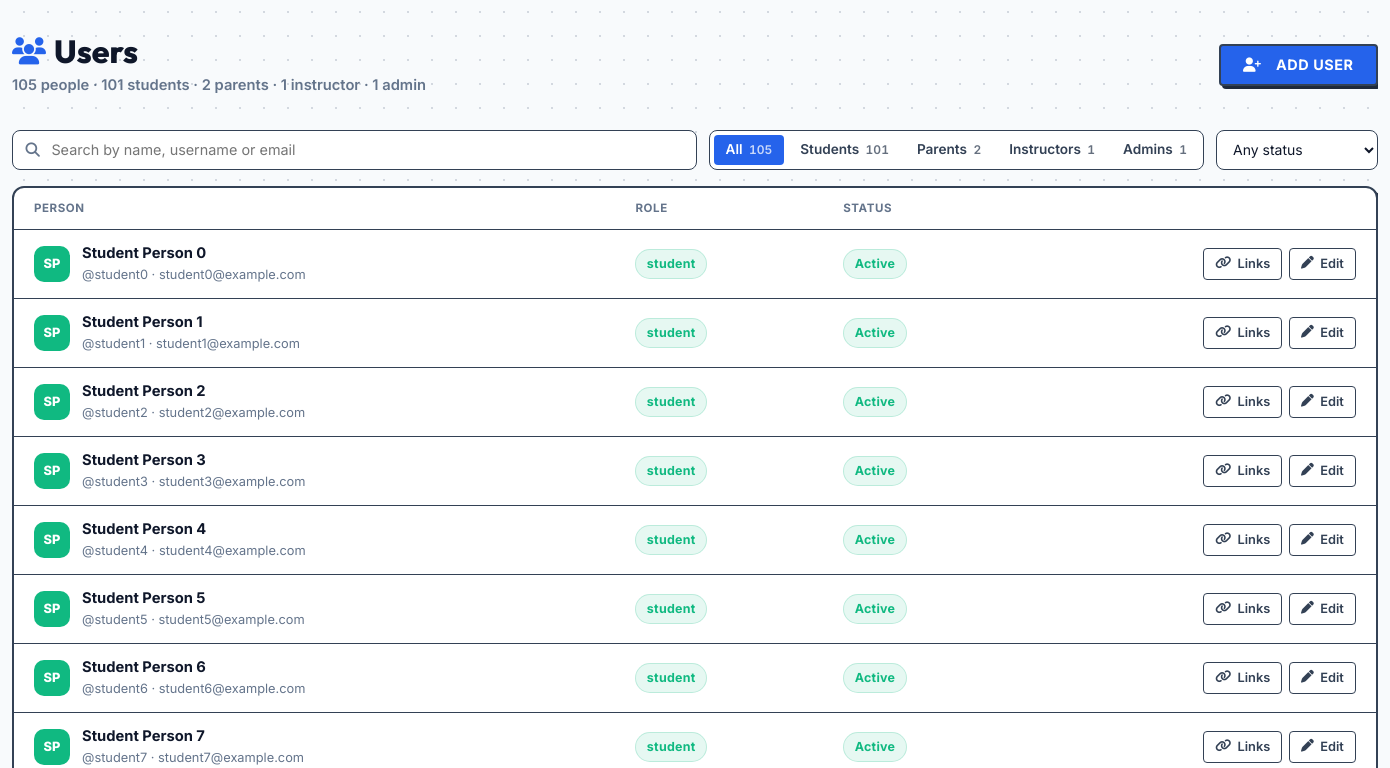
Test case: users list › finds a user from the second batch by name or email
Expected: the text "105 people" is shown, [12,76,426,94]
Type "zeinab@" into the search field named "search users" at (354, 150), box [12,130,696,170]
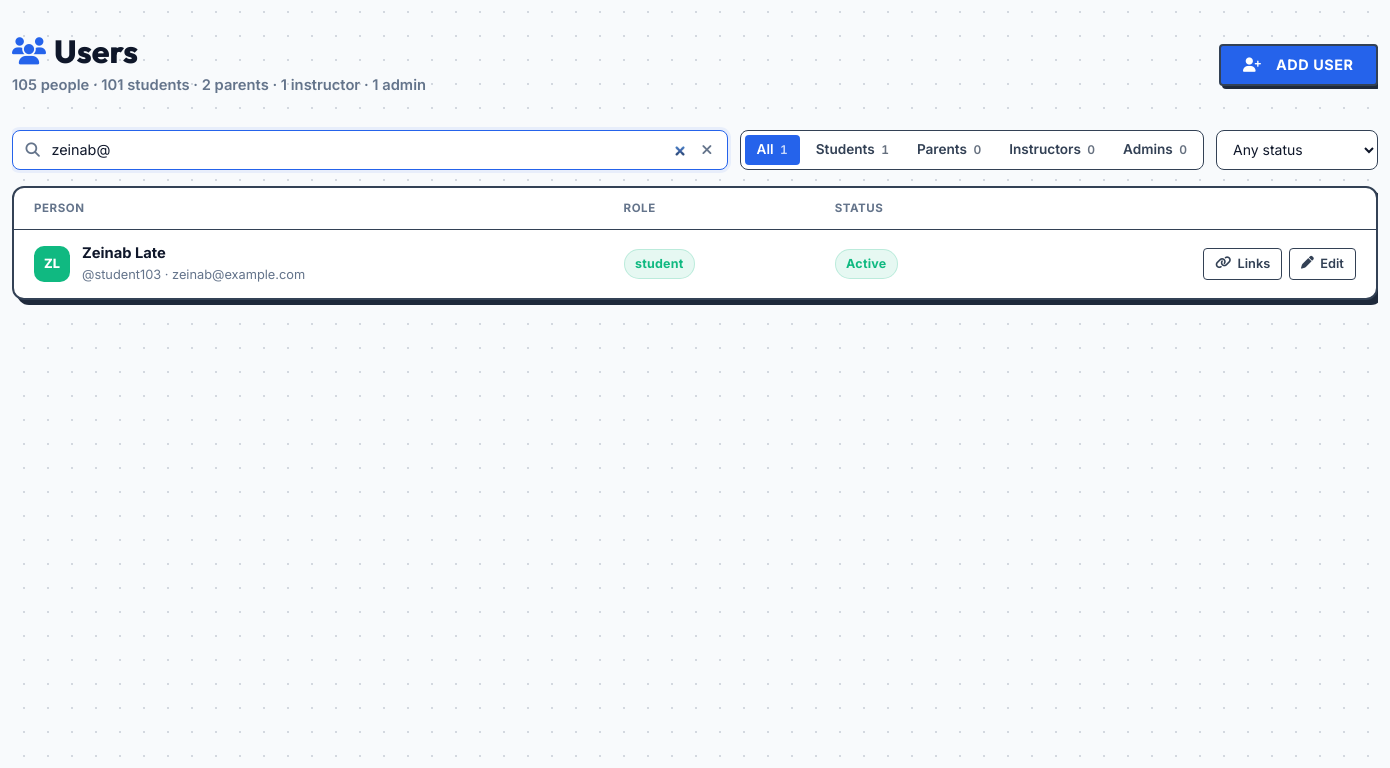
Result: the button "Zeinab Late" is shown at [82,242,166,265]
